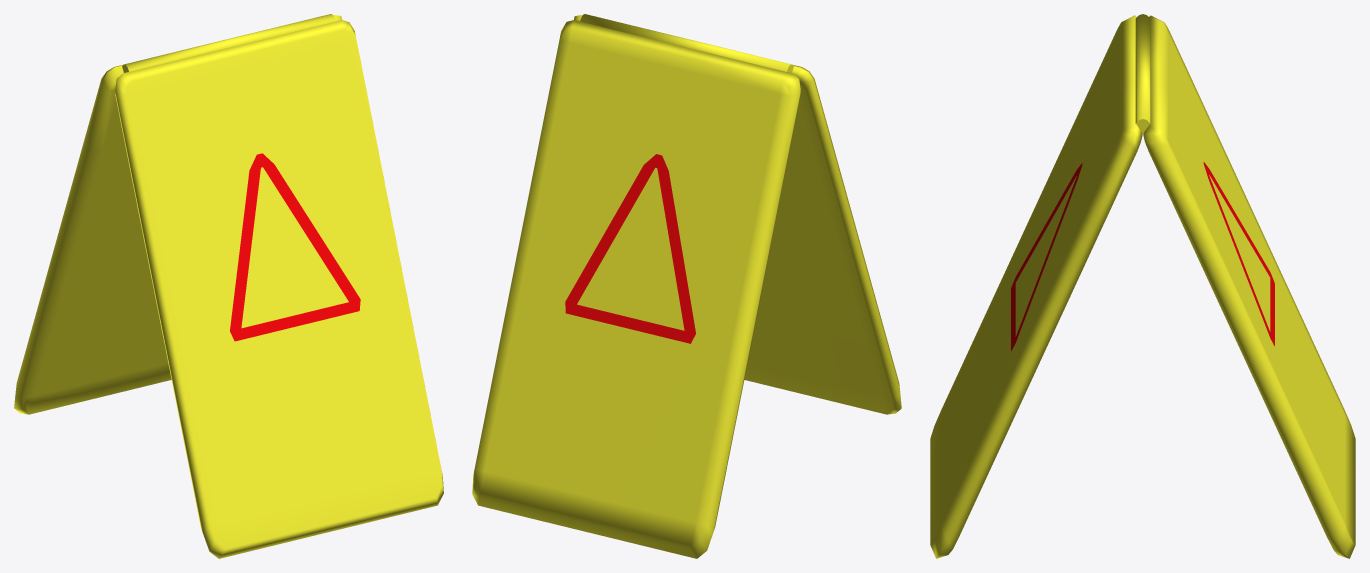
The model's file is WetFloorSign.fbx.
3 renders of one model, left to right at view 1: azimuth 30°, elevation 25°; view 2: azimuth 150°, elevation 25°; view 3: azimuth 270°, elevation 25°, orthographic. The views are drawn at different scales.
Visible parts, largest first — view 1: Cube.002; view 2: Cube.002; view 3: Cube.002.
Part boxes in pixels (x1=…): Cube.002: x1=14, y1=14, x2=443, y2=558; Cube.002: x1=472, y1=14, x2=901, y2=558; Cube.002: x1=930, y1=14, x2=1355, y2=558.
Size of the model in its own units: 89.71 by 150 by 133.
